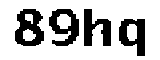8: (11, 7, 46, 49)
9: (48, 4, 80, 51)
h: (82, 6, 114, 51)
q: (120, 14, 148, 60)
